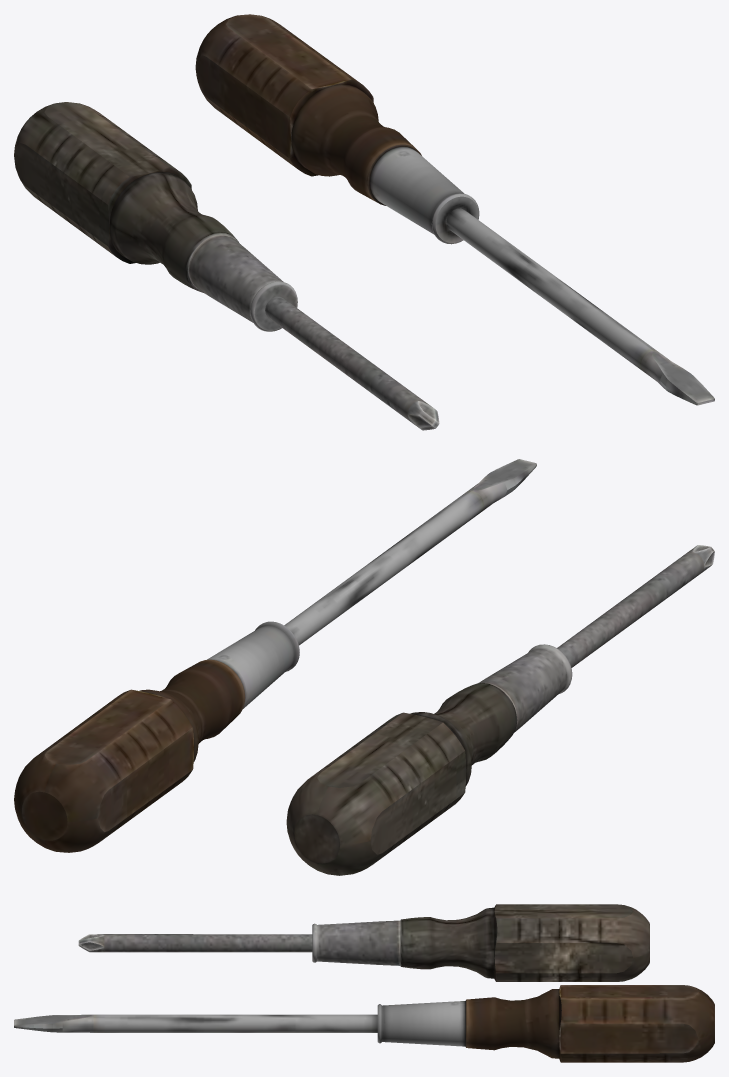
File: screwdrivers.glb
3 renders of one model, top to bottom at view 1: azimuth 30°, elevation 25°; view 2: azimuth 150°, elevation 25°; view 3: azimuth 270°, elevation 25°, orthographic. The views are drawn at different scales.
Visible parts, largest first — view 1: screwdrivers_02_a; view 2: screwdrivers_02_a; view 3: screwdrivers_02_a.
Part boxes in pixels (bbox=[...]): screwdrivers_02_a: bbox=[14, 14, 714, 430]; screwdrivers_02_a: bbox=[14, 459, 714, 875]; screwdrivers_02_a: bbox=[14, 904, 714, 1062].
Bounding box in the file's own units: 0.1004 × 0.0271 × 0.2699.
Materials: 1 (1 with a texture image).
